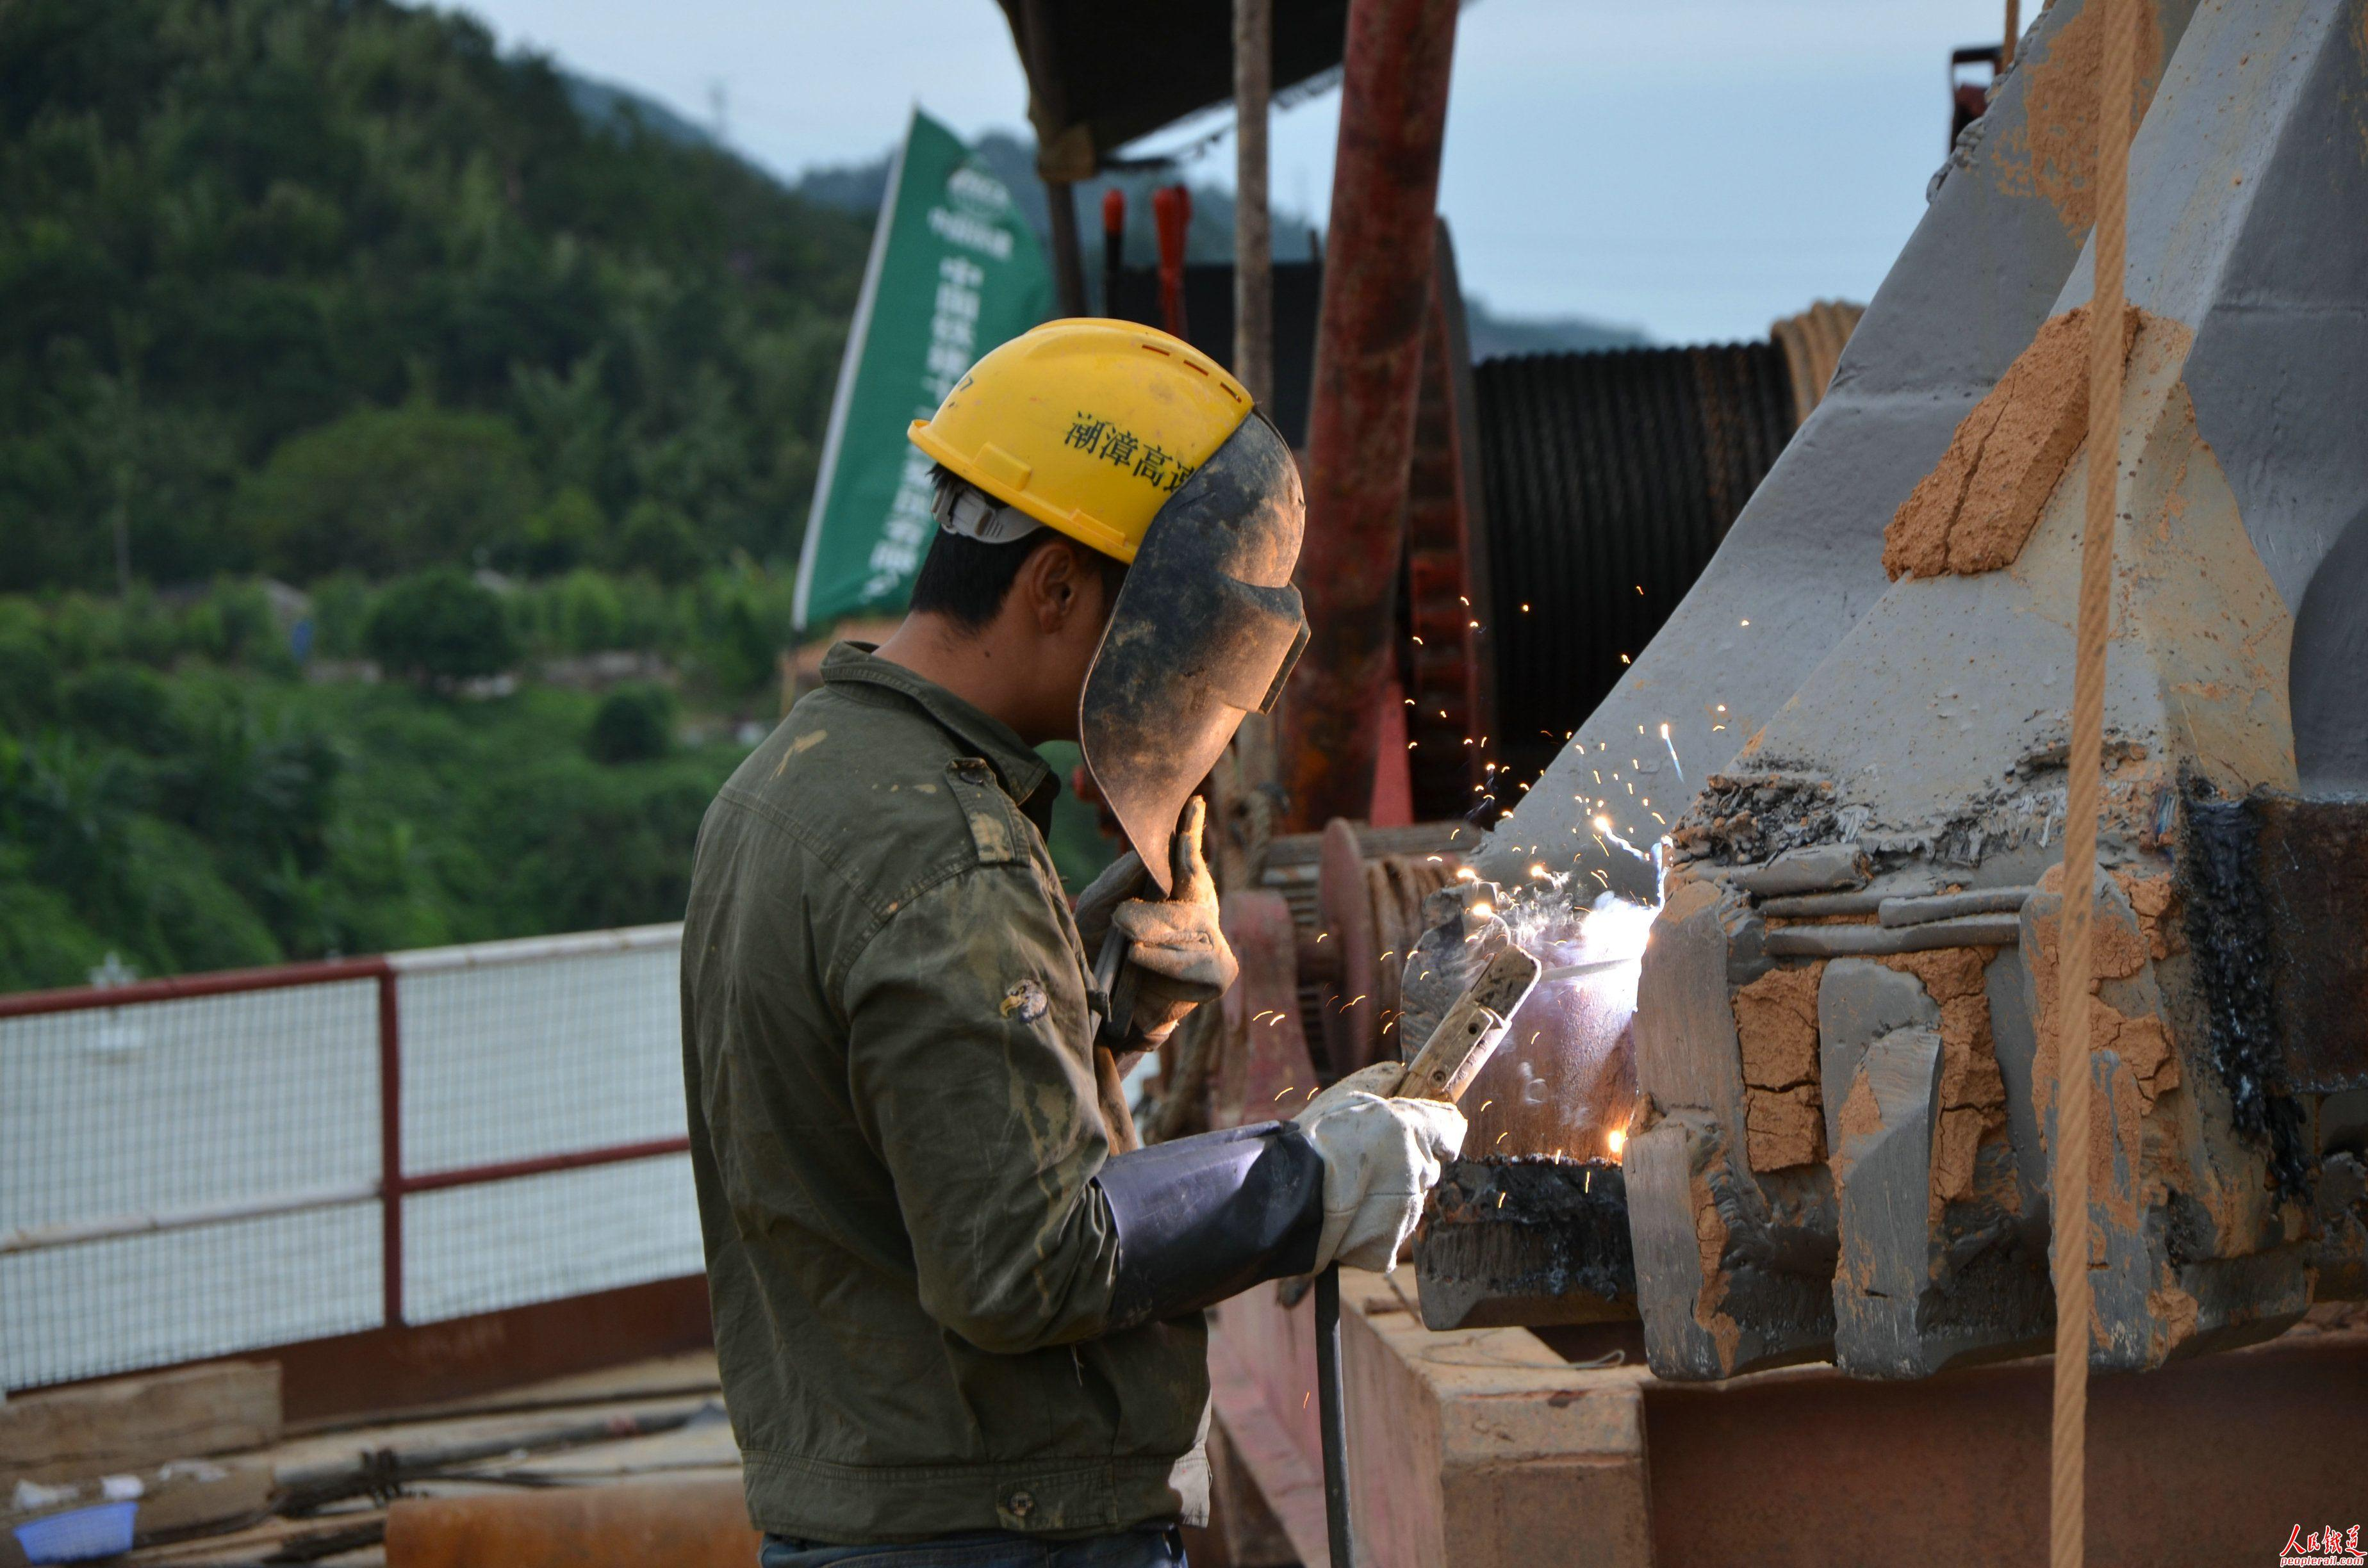helmet: (905, 318, 1295, 567)
